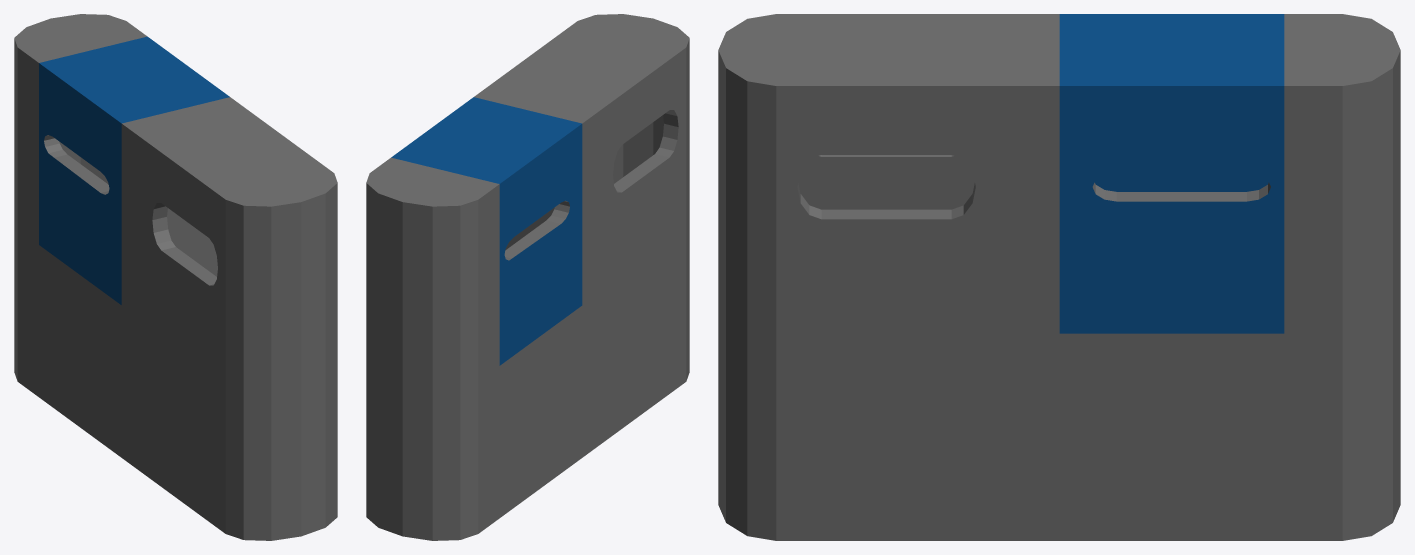
Rendered from TrashcanLvl2.fbx.
The picture shows the model from 3 angles, left to right: view 1: azimuth 30°, elevation 25°; view 2: azimuth 150°, elevation 25°; view 3: azimuth 270°, elevation 25°; orthographic projection. The views are drawn at different scales.
Parts seen in each view (by area): view 1: TrashcanLvl2.001; view 2: TrashcanLvl2.001; view 3: TrashcanLvl2.001.
Boxes of the visible parts, x1=… form: TrashcanLvl2.001: x1=14, y1=14, x2=337, y2=540; TrashcanLvl2.001: x1=366, y1=14, x2=689, y2=540; TrashcanLvl2.001: x1=718, y1=14, x2=1400, y2=540.
Size of the model in its own units: 13.41 by 39.46 by 53.65.
